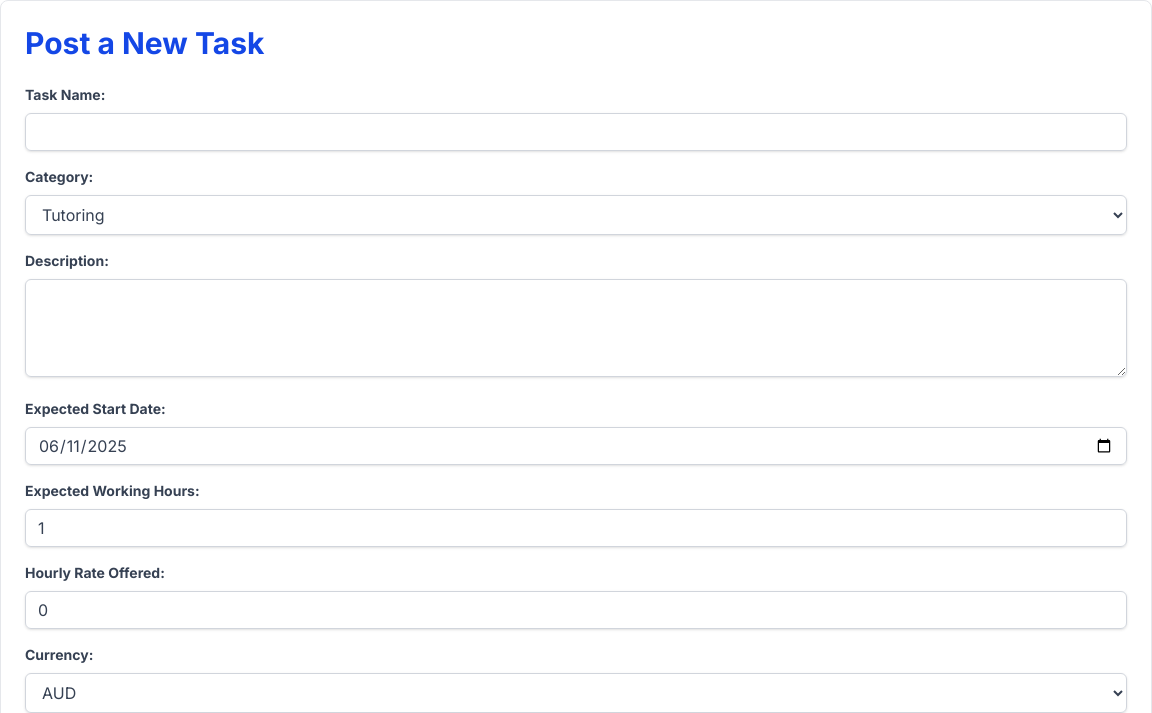
Test: CreateTaskPage › shows error if not authorized
Type "Test Task" into the field labelled "Task Name:". click: (576, 132)
box: [25,113,1127,151]
(page scrolled)
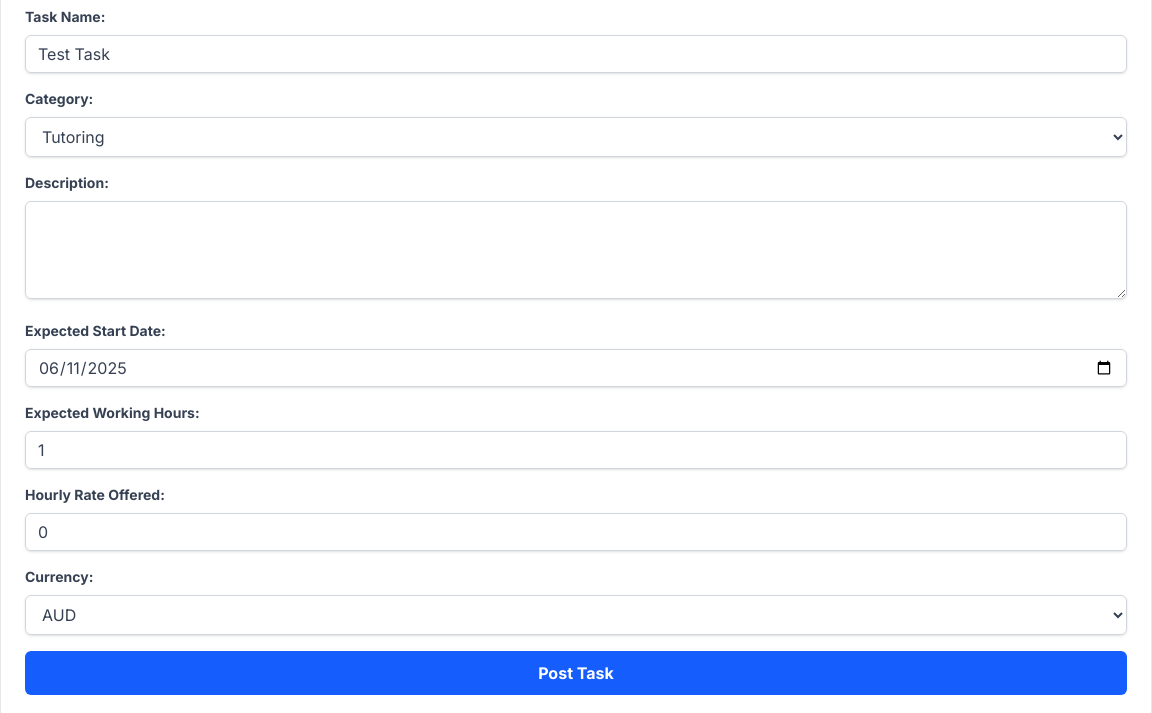
Click the button "Post Task". click: click(576, 673)
box: [25,651,1127,695]
(page scrolled)
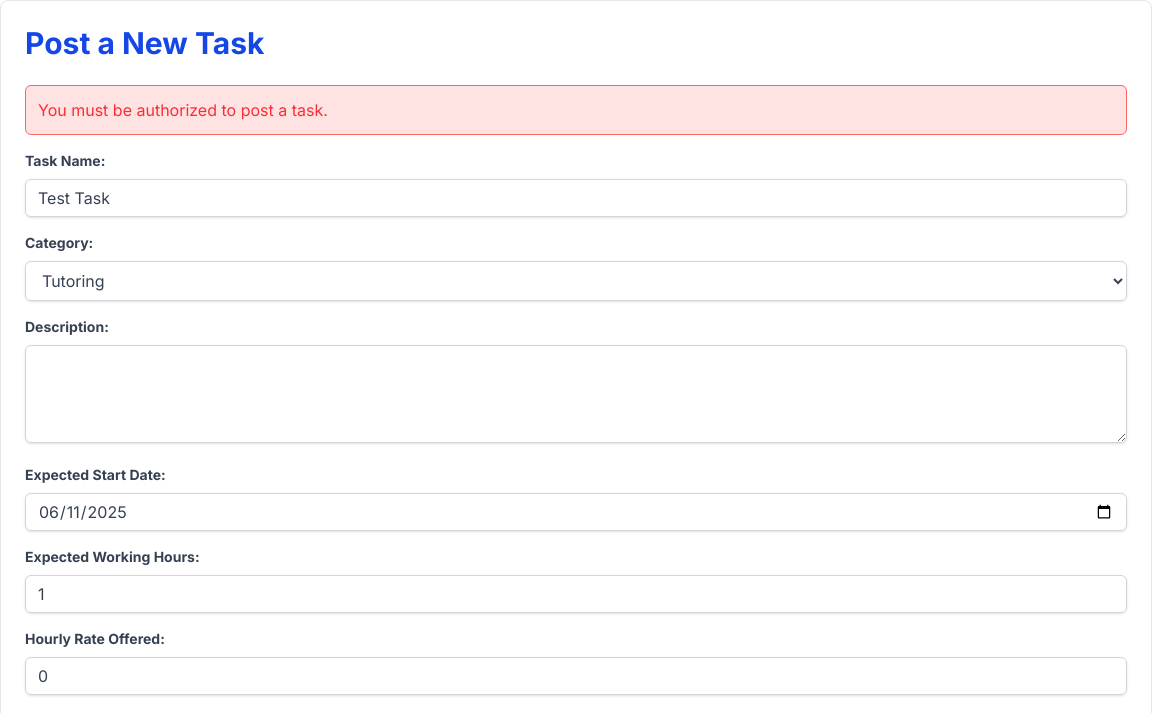
Now the text "You must be authorized to post a task." is shown, box [25,85,1127,135]
